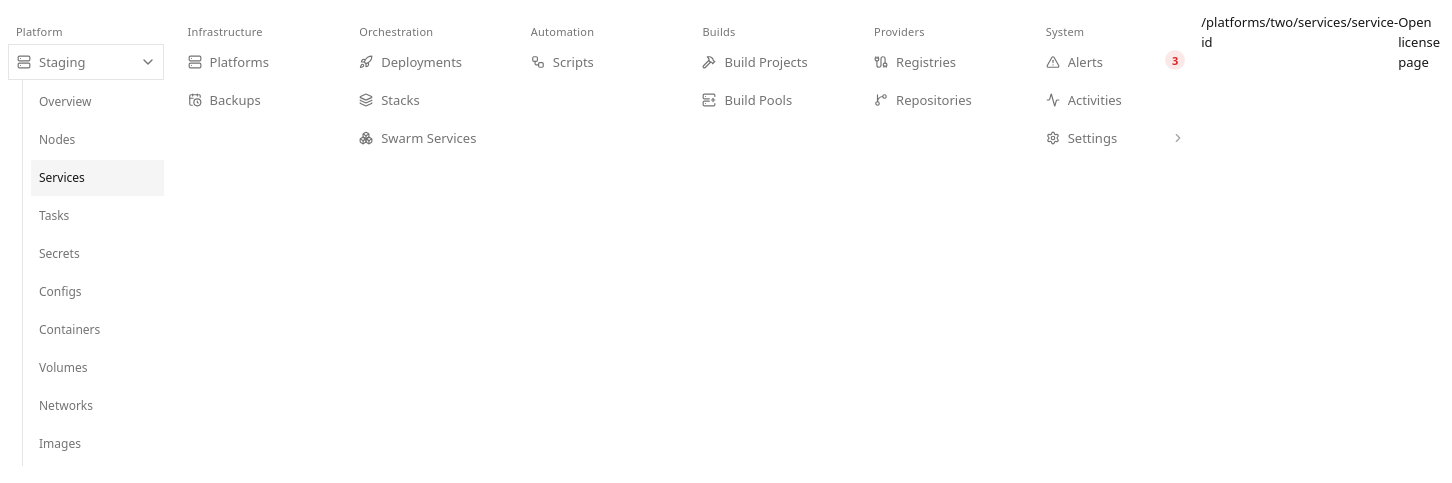
falls back to platform overview when the target does not support the current resource
Click the button with aria-label "Switch platform: Staging".
click(86, 62)  # box x1=8 y1=44 x2=164 y2=80
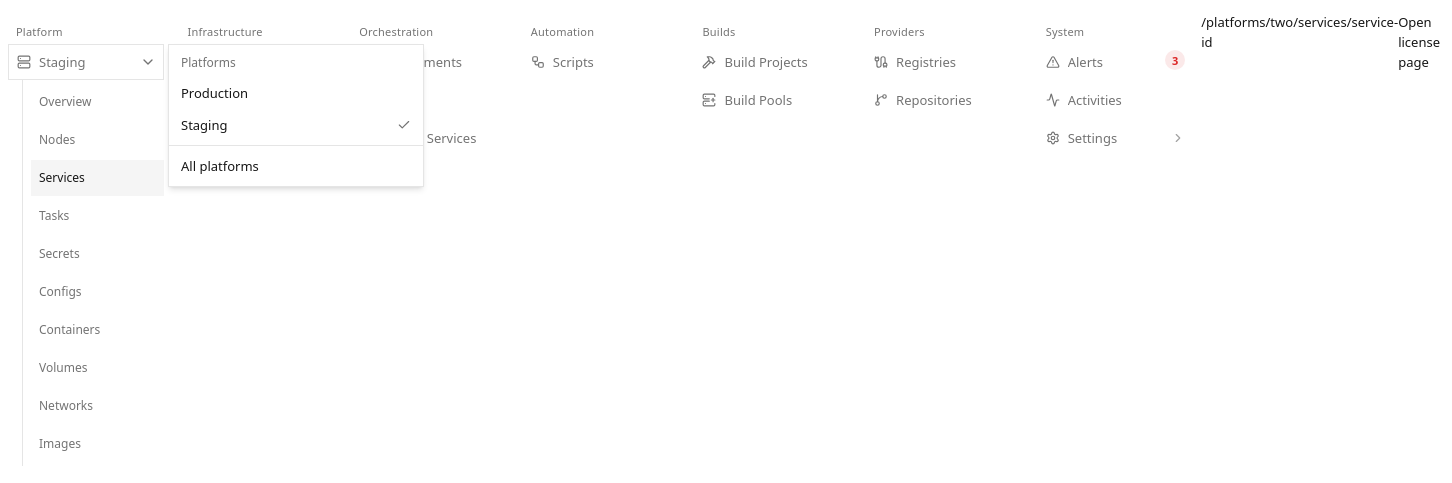
Click the menu item "Production".
click(215, 93)  # box x1=181 y1=84 x2=248 y2=102
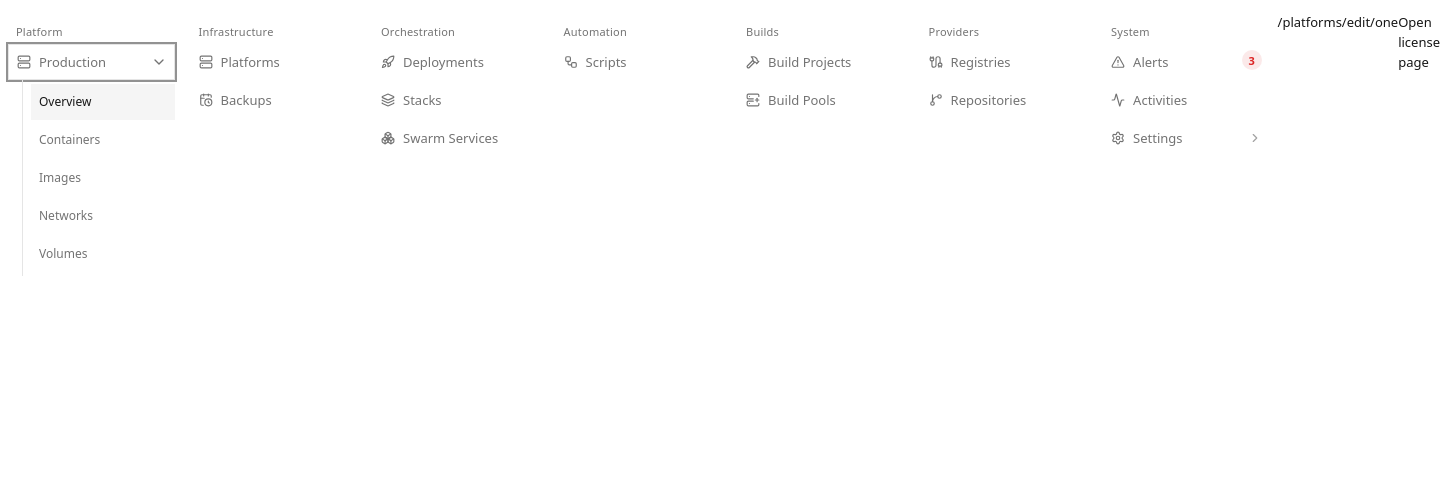
Now the text with test id "location" reads "/platforms/edit/one", box x1=1278 y1=13 x2=1398 y2=31
